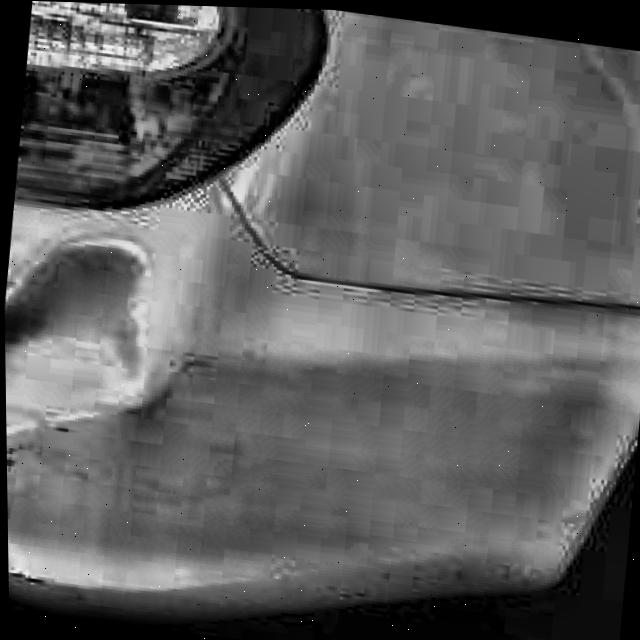bumper_dent: (4, 239, 160, 413)
